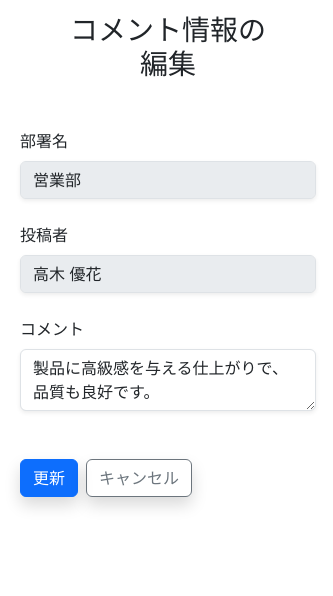
Test: CommentsEditView › コメント情報の更新 › 失敗した場合 › 入力不備のメッセージが表示されること
Step 1. Clear the text box with id "body" → (168, 380), box [20,349,316,411]
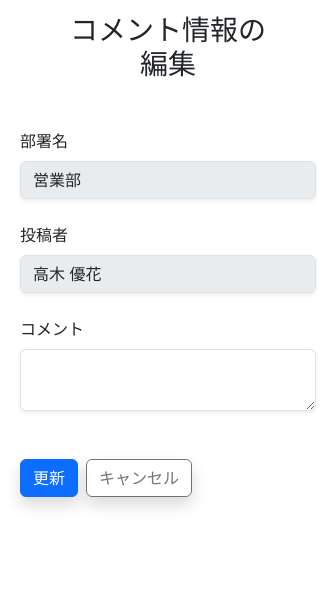
Step 2. Submit the form, box [20,129,316,497]
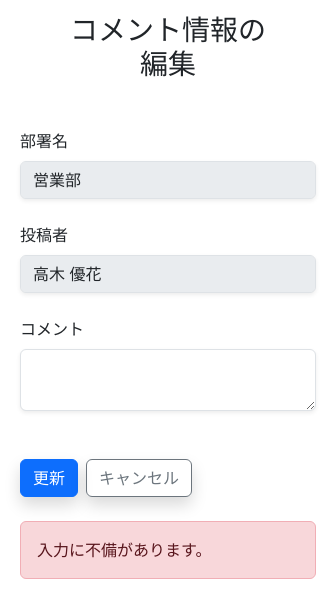
Check: the message with class "alert" reads "入力に不備があります。", box [37,540,211,560]
